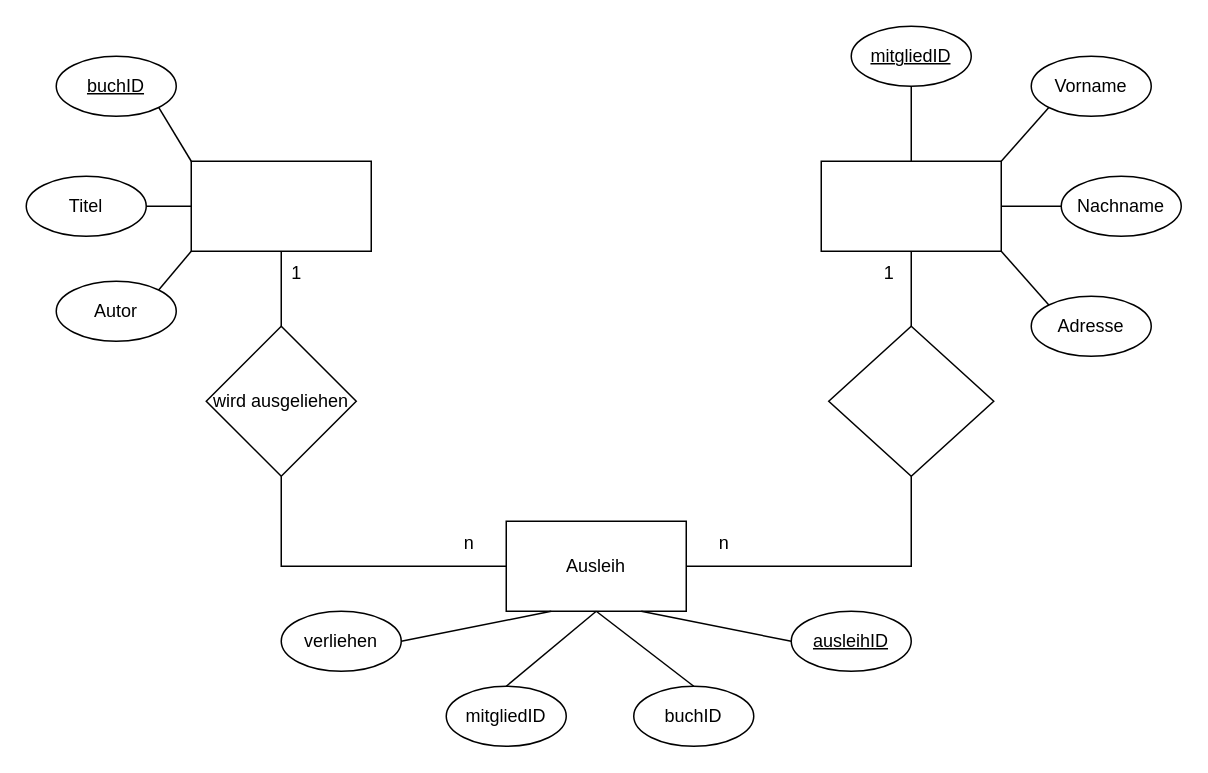
The diagram is 1208 pixels wide and 773 high, and some of its shapes have lost their labels. The shapes that lost their labels are listed below. From the top down, each one's box as (x1, y1, x2, y2) in pixels, then its label:
(190, 160, 371, 251): Buch
(820, 160, 1001, 251): Mitglied
(827, 325, 994, 476): leiht aus
